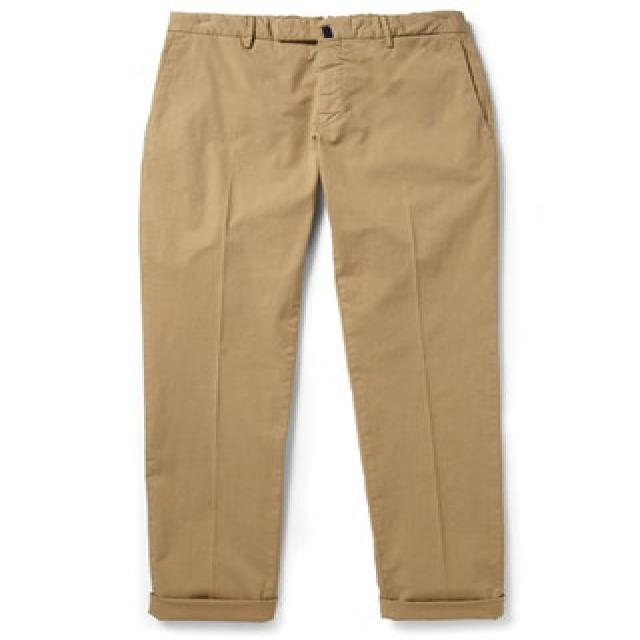long-pants: (138, 11, 510, 626)
